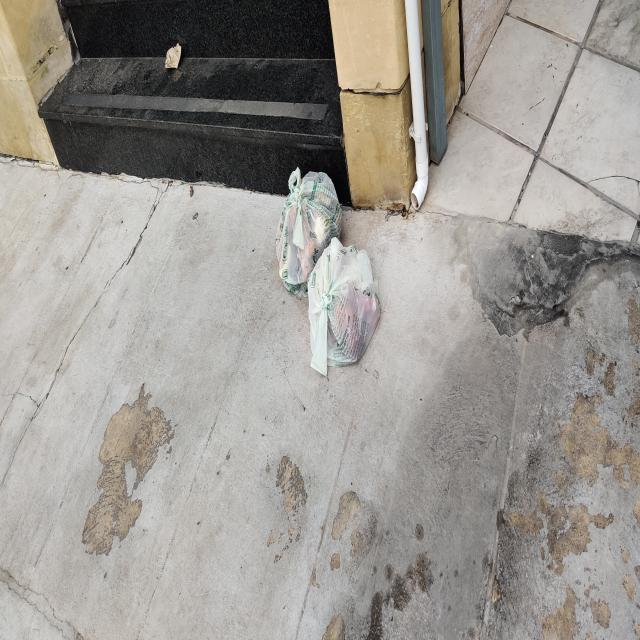Organic Waste -White Bags-: (273, 166, 383, 378)
